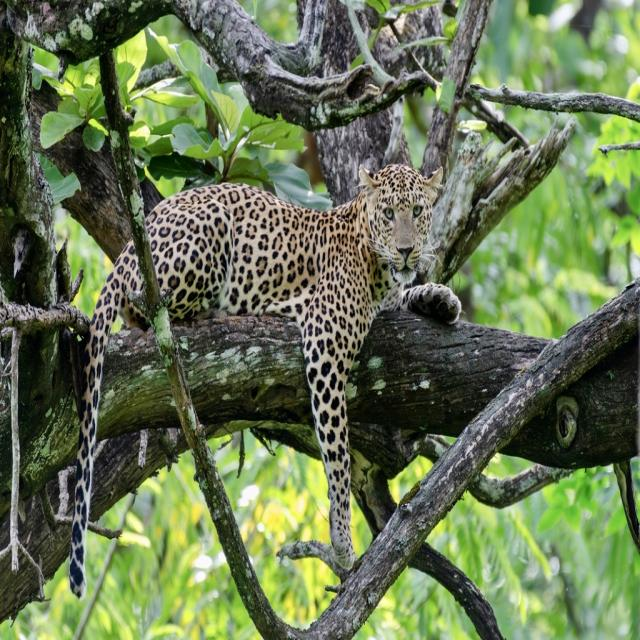Leopard: (68, 162, 446, 601)
